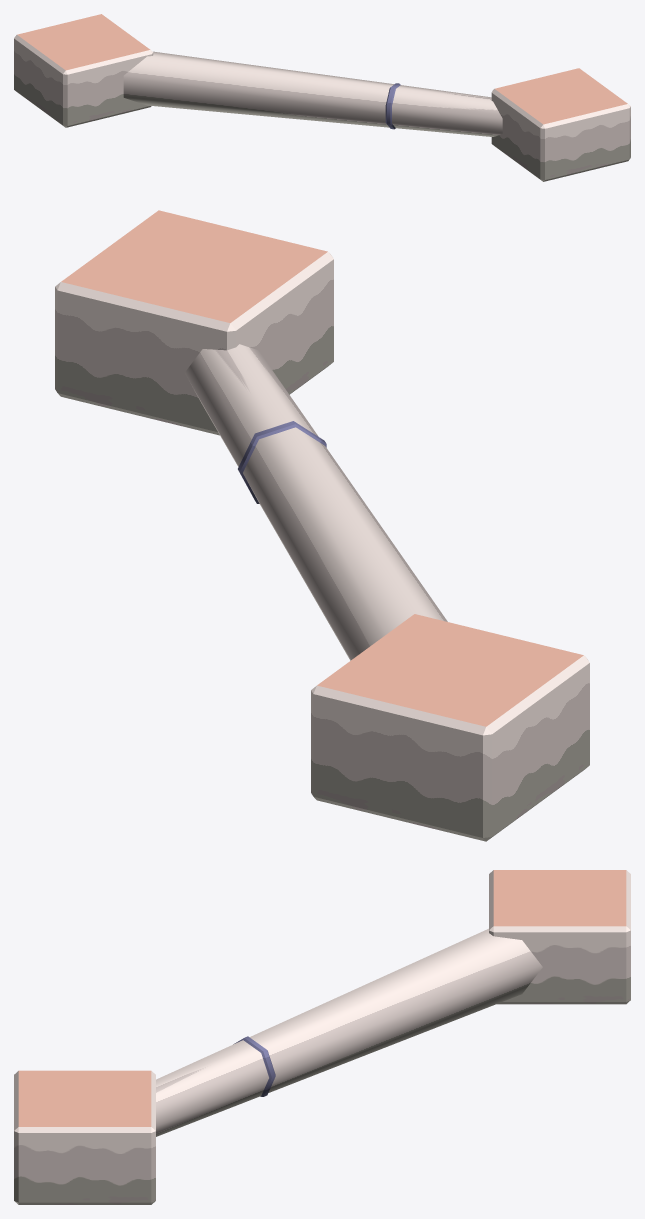
The model's file is R4C_ROD_DIAG_2D_LONG_LOD1.glb.
3 views of the same model, one above another, from view 1: azimuth 30°, elevation 25°; view 2: azimuth 150°, elevation 25°; view 3: azimuth 270°, elevation 25° (orthographic). The views are drawn at different scales.
Parts seen in each view (by area): view 1: R4C_ROD_DIAG_2D_LONG_LOD1; view 2: R4C_ROD_DIAG_2D_LONG_LOD1; view 3: R4C_ROD_DIAG_2D_LONG_LOD1.
Part boxes in pixels (x1,y1,x2,y2): R4C_ROD_DIAG_2D_LONG_LOD1: (14,14,630,181); R4C_ROD_DIAG_2D_LONG_LOD1: (55,210,589,841); R4C_ROD_DIAG_2D_LONG_LOD1: (14,870,630,1204).
Bounding box in the file's own units: 1.62 × 0.226 × 1.62.
3 materials, 3 textured.
